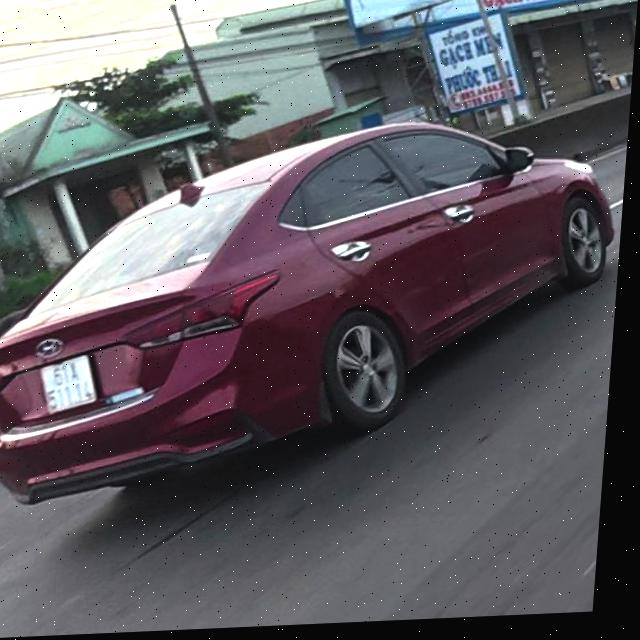car: (0, 108, 628, 517)
plate: (31, 352, 103, 413)
